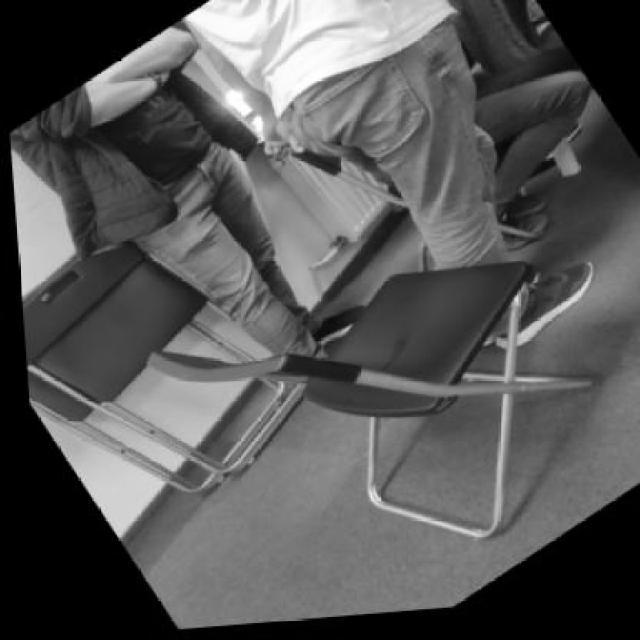chair: (154, 258, 533, 540), (22, 239, 309, 494)
